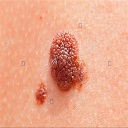Melanoma: (48, 30, 88, 91)
